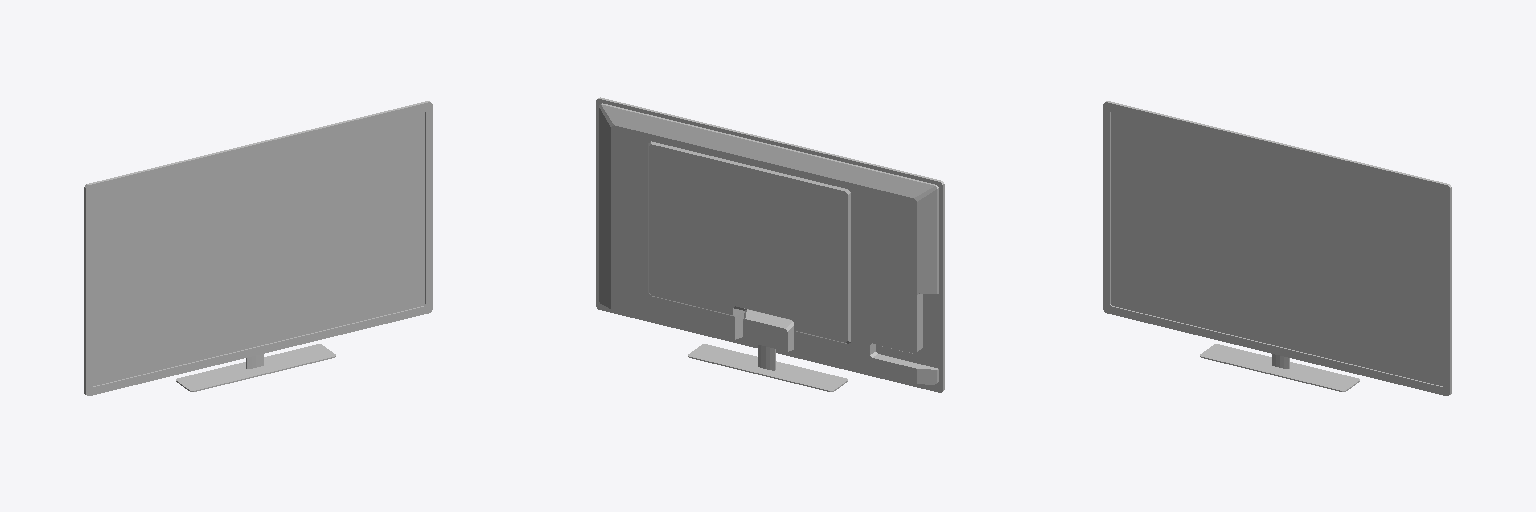
Rendered from flatscreen-tv-46-inch.obj.
3 renders of one model, left to right at view 1: azimuth 30°, elevation 25°; view 2: azimuth 150°, elevation 25°; view 3: azimuth 330°, elevation 25°, orthographic.
Parts seen in each view (by area): view 1: TV, Foot; view 2: TV, Foot; view 3: TV, Foot.
Part boxes in pixels (left/top/right/bottom): TV: left=84, top=101, right=432, bottom=395; Foot: left=176, top=344, right=335, bottom=391; TV: left=596, top=97, right=944, bottom=392; Foot: left=688, top=344, right=847, bottom=391; TV: left=1103, top=101, right=1451, bottom=395; Foot: left=1200, top=344, right=1359, bottom=391.
Size of the model in its own units: 106 by 67.01 by 8.98.